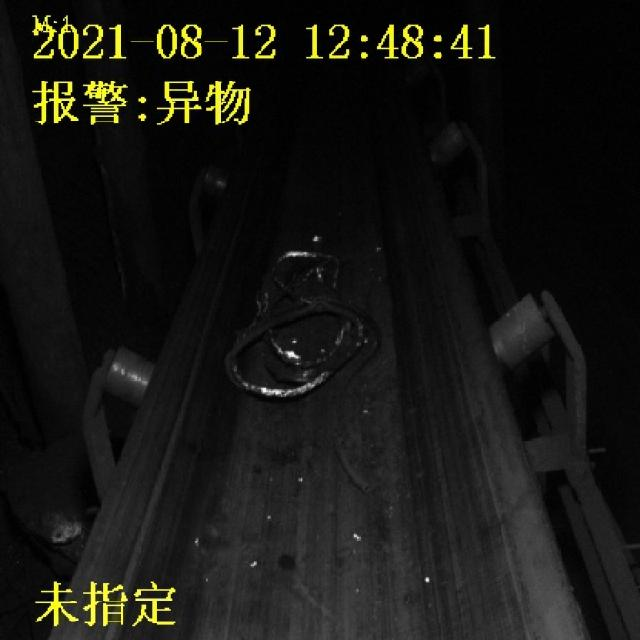bolt: (220, 242, 385, 492)
